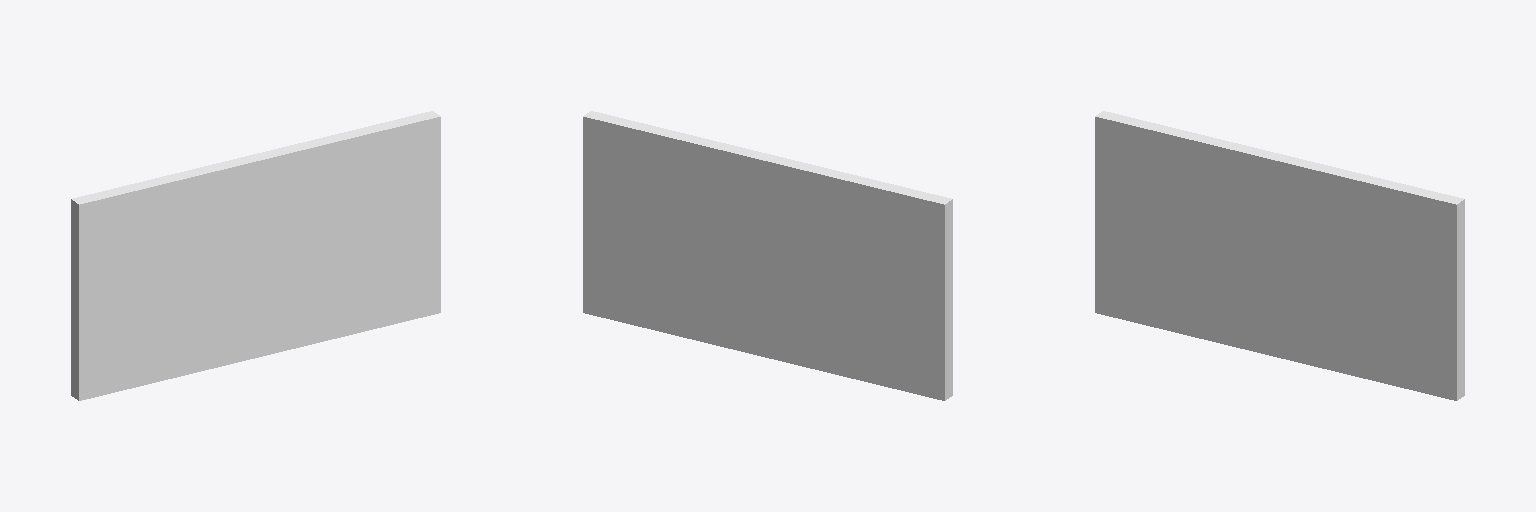
Rendered from settingPanel_02.obj.
The picture shows the model from 3 angles: view 1: azimuth 30°, elevation 25°; view 2: azimuth 150°, elevation 25°; view 3: azimuth 330°, elevation 25°; orthographic projection.
Parts seen in each view (by area): view 1: object 1; view 2: object 1; view 3: object 1.
Boxes of the visible parts, x1,y1,x2,y2 form: object 1: [71, 111, 440, 400]; object 1: [583, 111, 952, 400]; object 1: [1095, 111, 1464, 400].
Size of the model in its own units: 7.9 by 4.1 by 0.3.